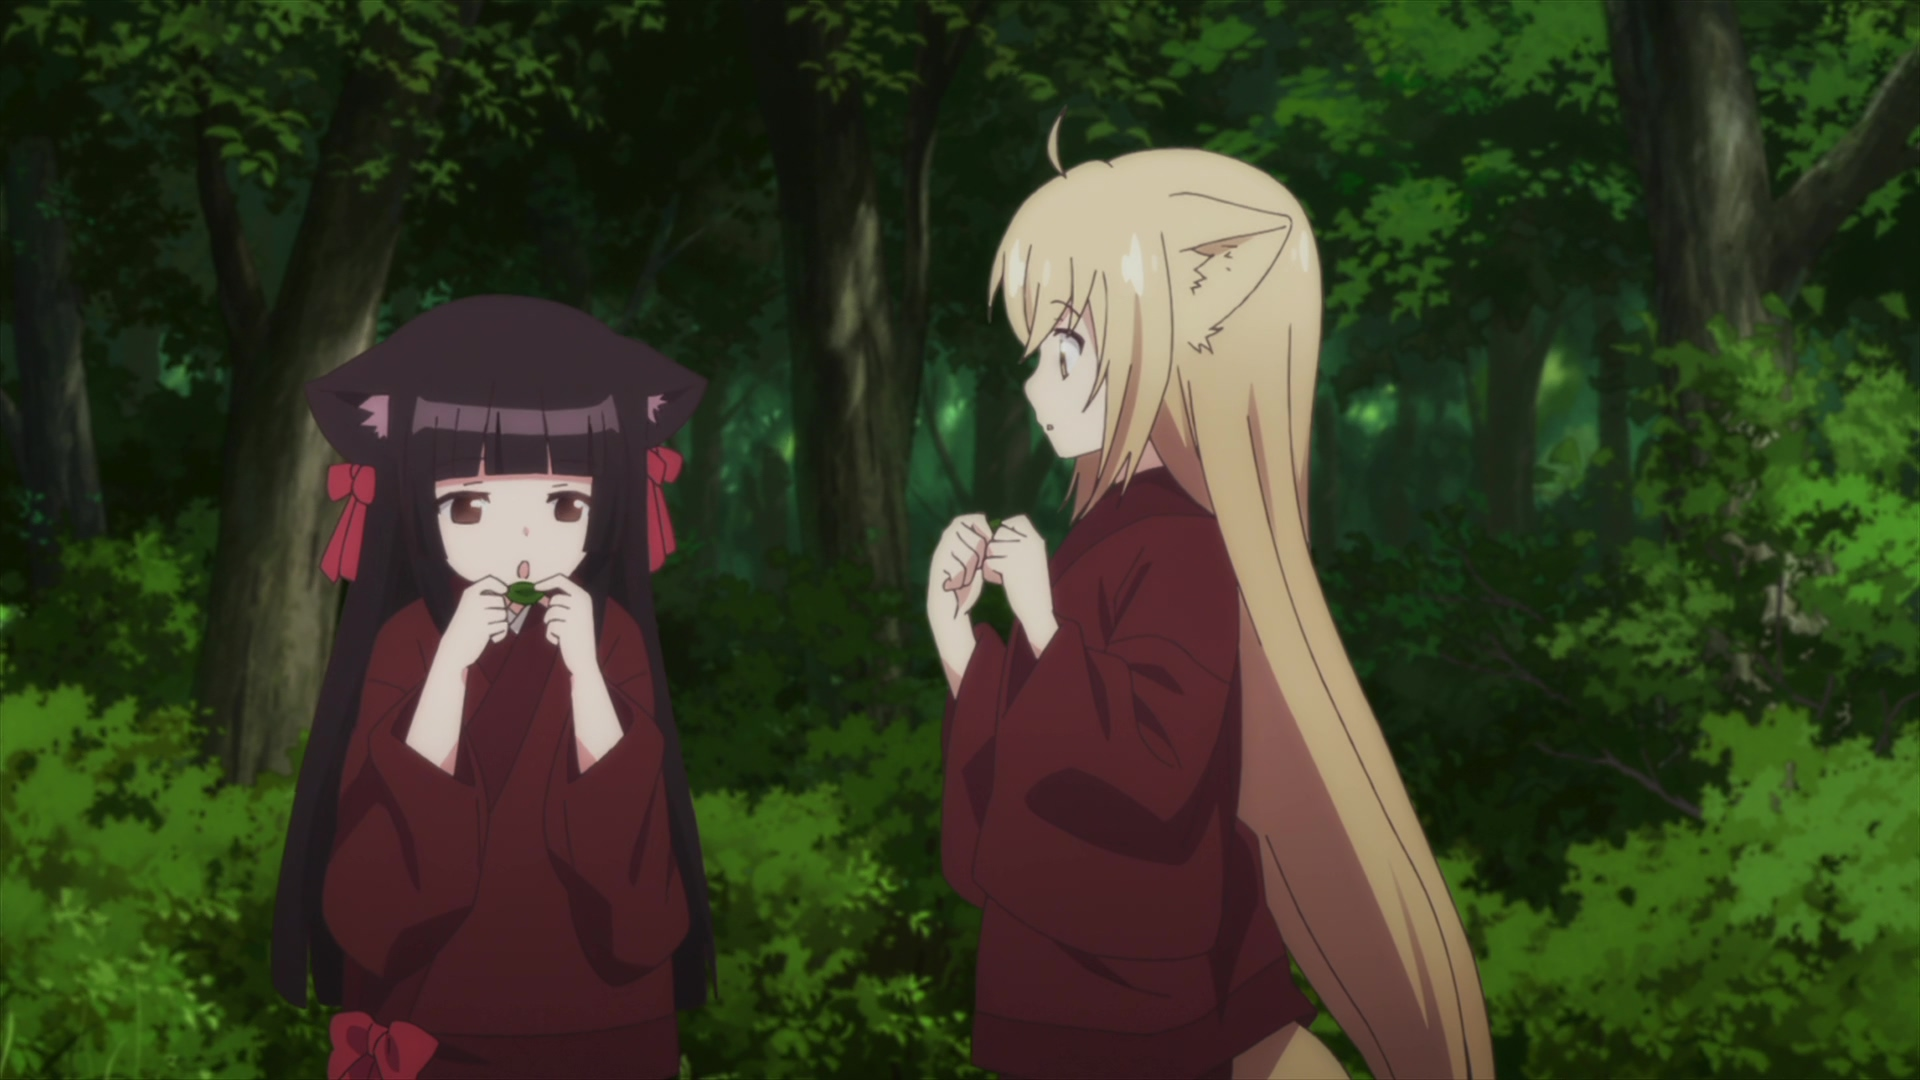柚: (926, 109, 1495, 1080)
樱: (273, 291, 709, 1080)
